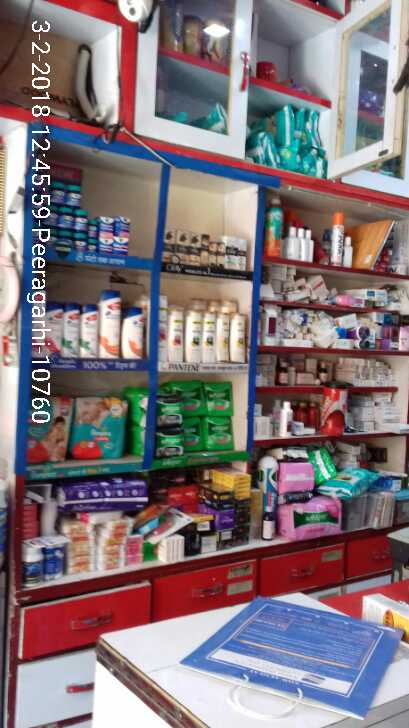vicks: (36, 177, 130, 256)
